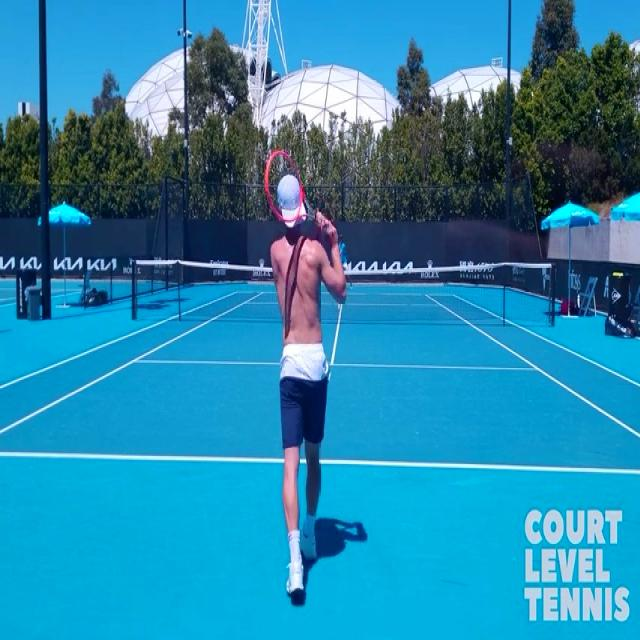backhand-finish: (268, 148, 347, 584)
